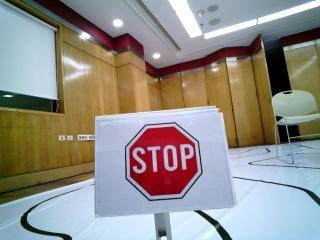stop: (99, 118, 229, 208)
